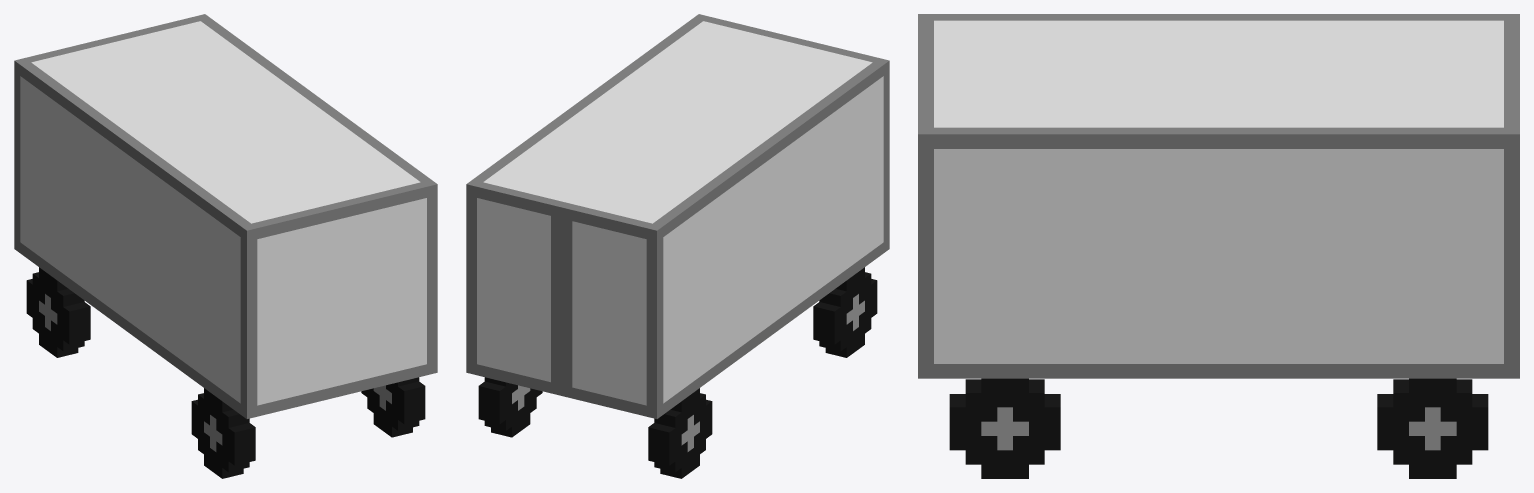
File: container1.obj
3 renders of one model, left to right at view 1: azimuth 30°, elevation 25°; view 2: azimuth 150°, elevation 25°; view 3: azimuth 270°, elevation 25°, orthographic. The views are drawn at different scales.
Visible parts, largest first — view 1: container1; view 2: container1; view 3: container1.
Boxes of the visible parts, x1,y1,x2,y2 form: container1: (14,14,437,478); container1: (466,14,889,478); container1: (918,14,1519,478).
Size of the model in its own units: 18 by 24 by 38.
Materials: 1 (1 with a texture image).
